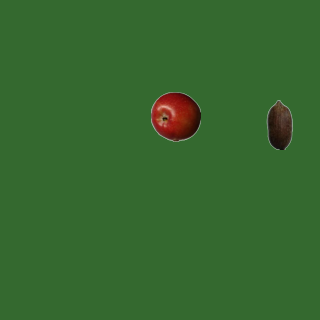Apple Braeburn: (150, 91, 200, 141)
Nut Pecan: (254, 99, 304, 149)
